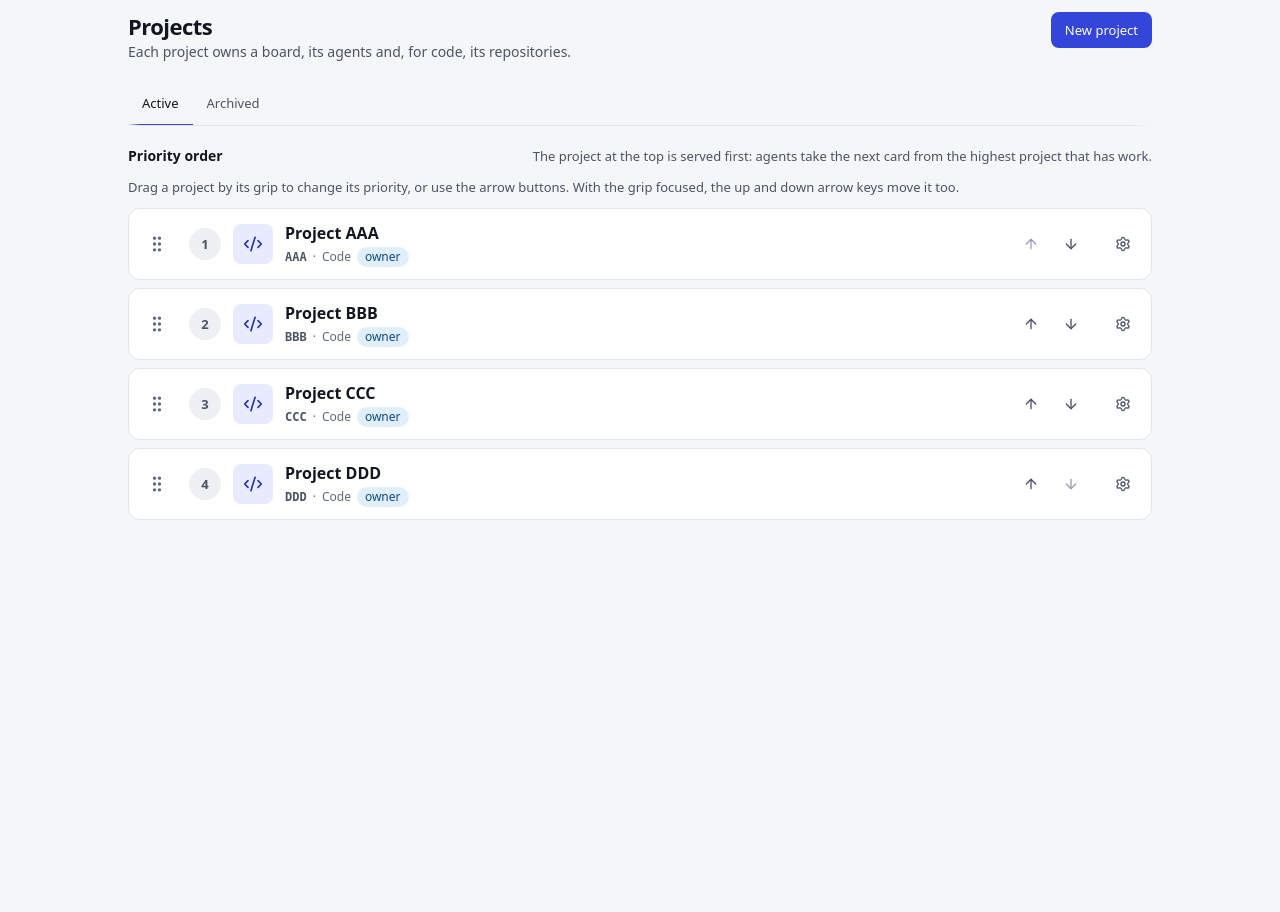
Test: the Projects page: priority order › a failed save puts the old order back and says so
Check: the element with test id "project-rank-list" is shown, box [128,178,1152,520]
Click the button named "Move Project BBB down" at x=1071, y=324, box [1051,304,1091,344]
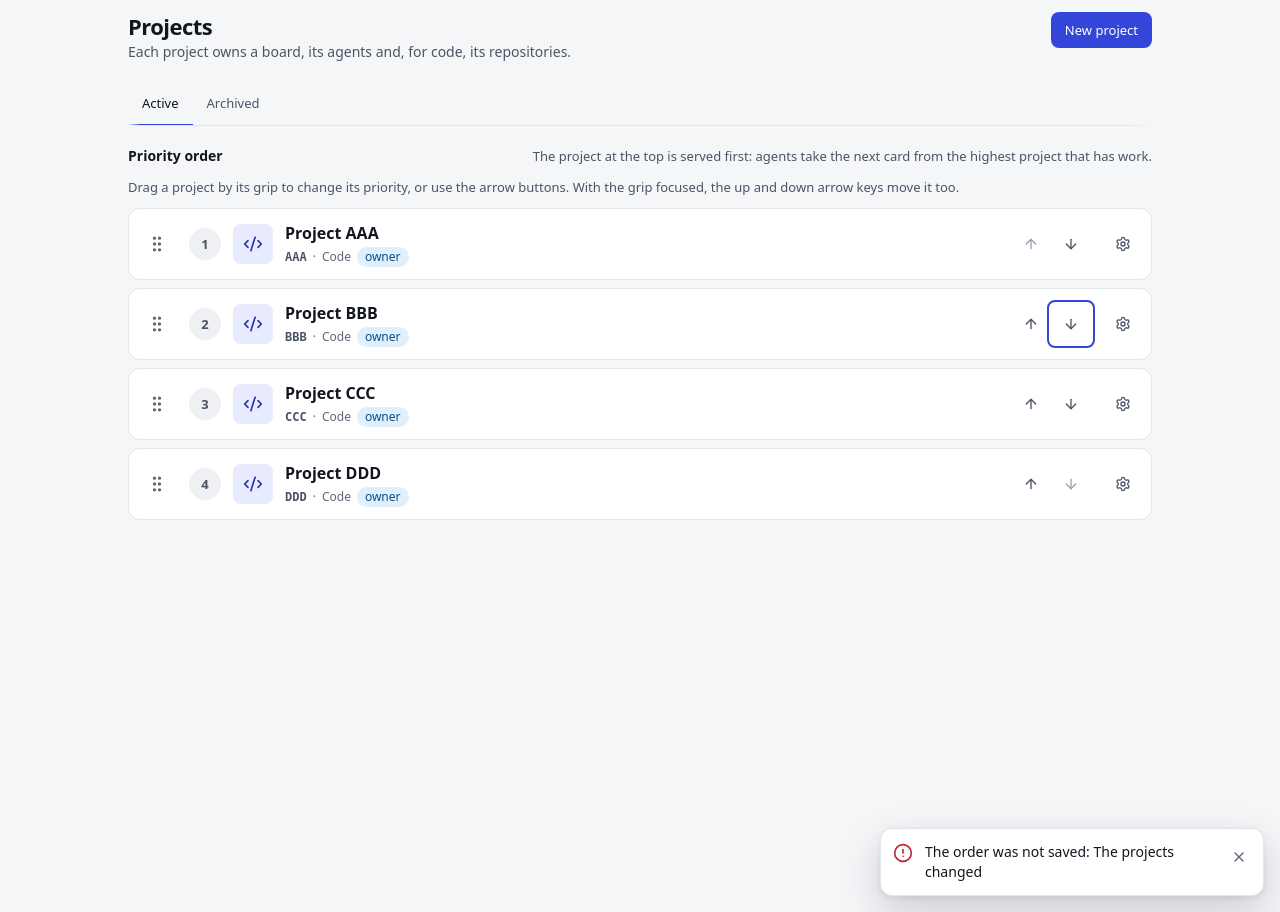
Check: the text "The order was not saved: The projects changed" is shown, box [925,841,1211,883]
